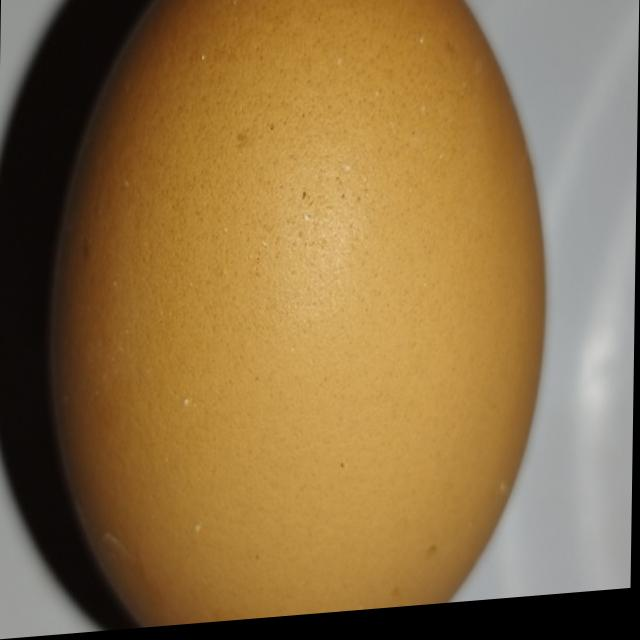fresh: (41, 0, 556, 637)
